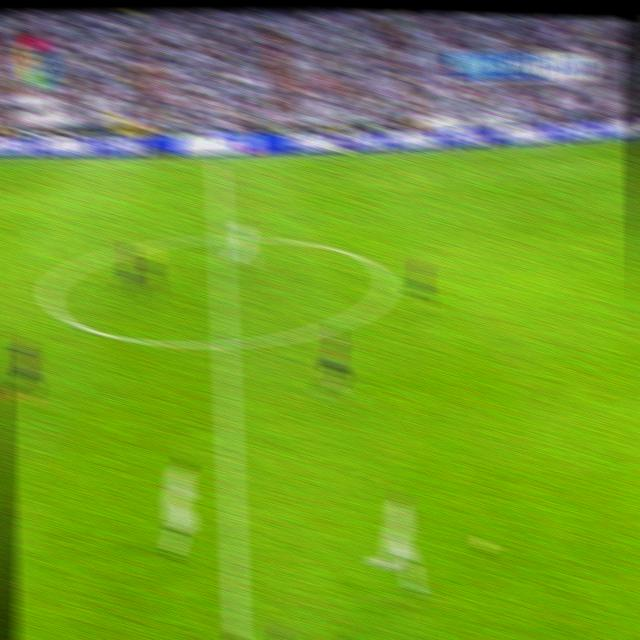halfcircle_bottom: (210, 318, 238, 366)
halfcircle_top: (210, 220, 232, 255)
midline_bottom_intersection: (223, 606, 249, 640)
midline_top_intersection: (207, 153, 228, 175)
